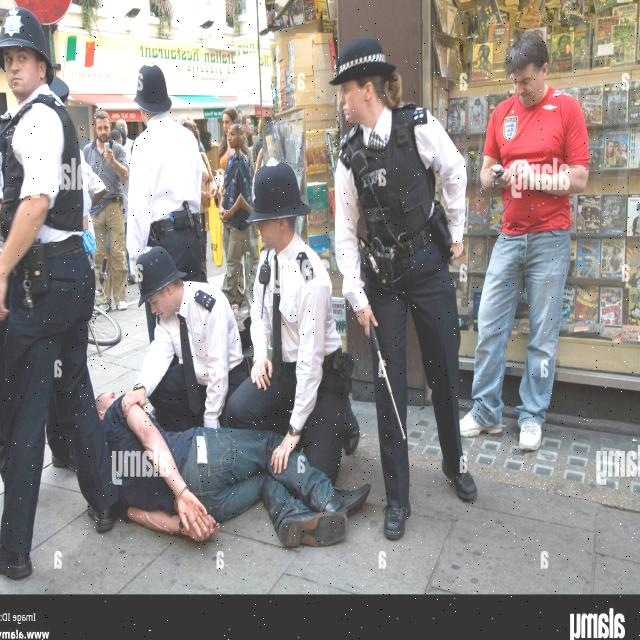police: (328, 32, 493, 539), (0, 0, 126, 579), (233, 155, 349, 482), (110, 56, 235, 290), (117, 237, 254, 436)
